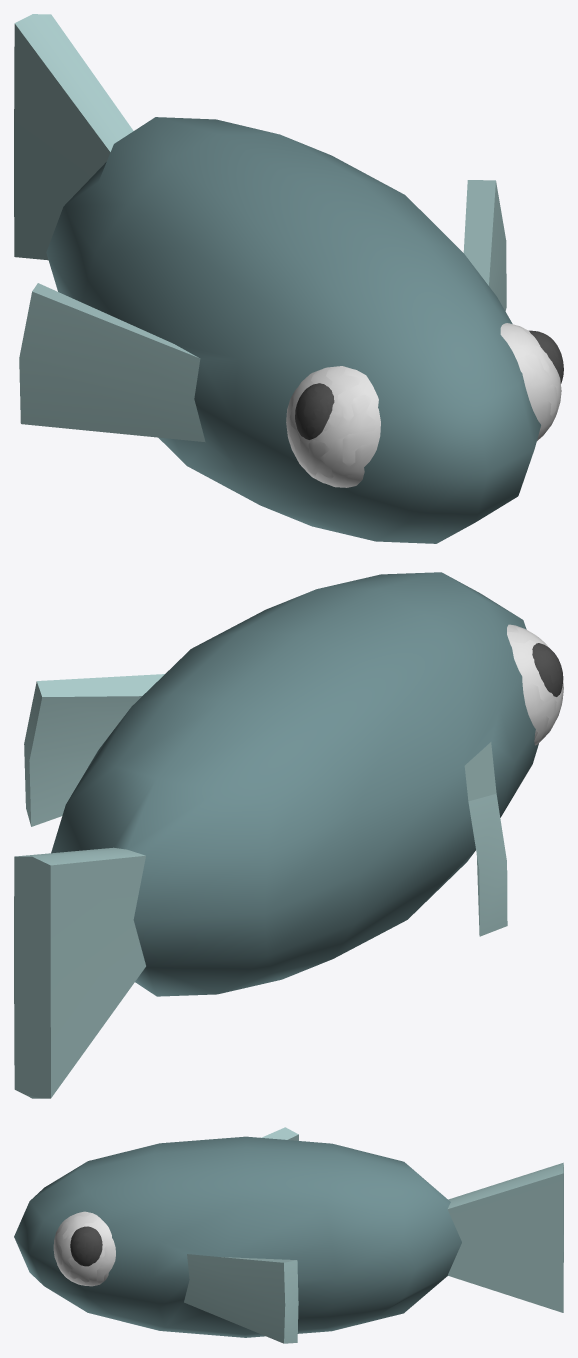
The model's file is fish 1.fbx.
3 views of the same model, one above another, from view 1: azimuth 30°, elevation 25°; view 2: azimuth 150°, elevation 25°; view 3: azimuth 270°, elevation 25° (orthographic). The views are drawn at different scales.
Parts seen in each view (by area): view 1: pCube1, pCube2, pCube3; view 2: pCube1, pCube2, pCube3; view 3: pCube1, pCube2, pCube3.
Boxes of the visible parts, x1,y1,x2,y2 form: pCube1: (14, 14, 540, 543); pCube2: (286, 323, 561, 487); pCube3: (295, 330, 563, 439); pCube1: (14, 572, 538, 1098); pCube2: (507, 624, 563, 745); pCube3: (532, 643, 563, 696); pCube1: (14, 1127, 563, 1343); pCube2: (53, 1211, 115, 1286); pCube3: (70, 1226, 102, 1266).
Bounding box in the file's own units: 1.14 × 0.6694 × 1.87.
